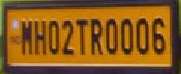character: (151, 16, 165, 56), (90, 17, 104, 55), (135, 17, 149, 55), (74, 18, 88, 55), (104, 17, 118, 54), (33, 19, 46, 56), (61, 18, 74, 55), (120, 17, 133, 54), (20, 19, 32, 55), (47, 19, 59, 55)
